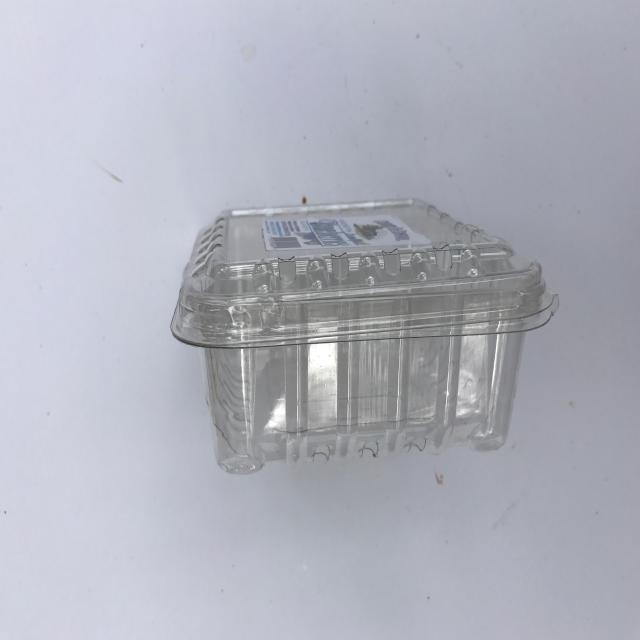plastic: (170, 196, 559, 475)
